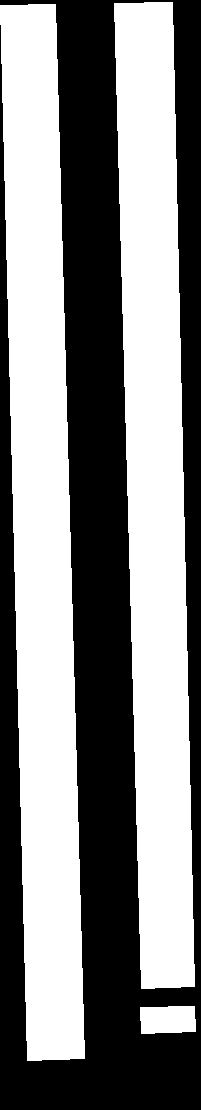parkingspot: (0, 4, 84, 1060), (114, 2, 194, 988), (140, 1006, 195, 1033)
